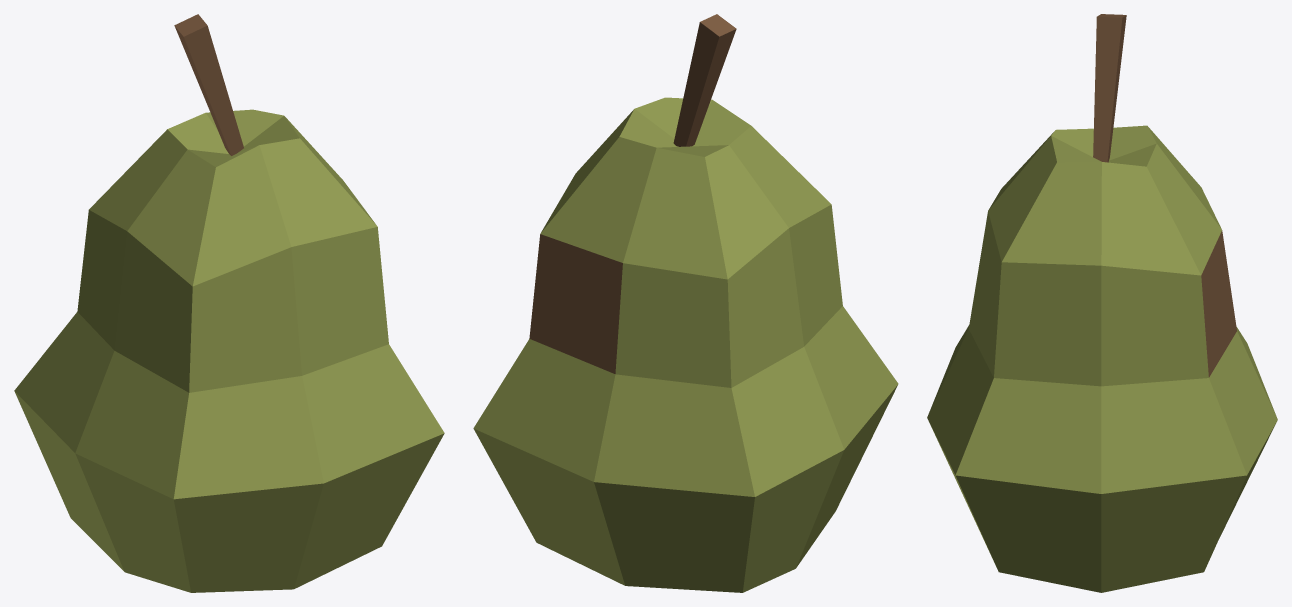
The model's file is pear.fbx.
3 views of the same model, side by side, from view 1: azimuth 30°, elevation 25°; view 2: azimuth 150°, elevation 25°; view 3: azimuth 270°, elevation 25° (orthographic). The views are drawn at different scales.
Visible parts, largest first — view 1: pear; view 2: pear; view 3: pear.
Part boxes in pixels (left/top/right/bottom): pear: left=14, top=14, right=444, bottom=592; pear: left=473, top=14, right=898, bottom=592; pear: left=927, top=14, right=1277, bottom=592.
Size of the model in its own units: 9.81 by 16.04 by 9.72.
1 material, 1 textured.
